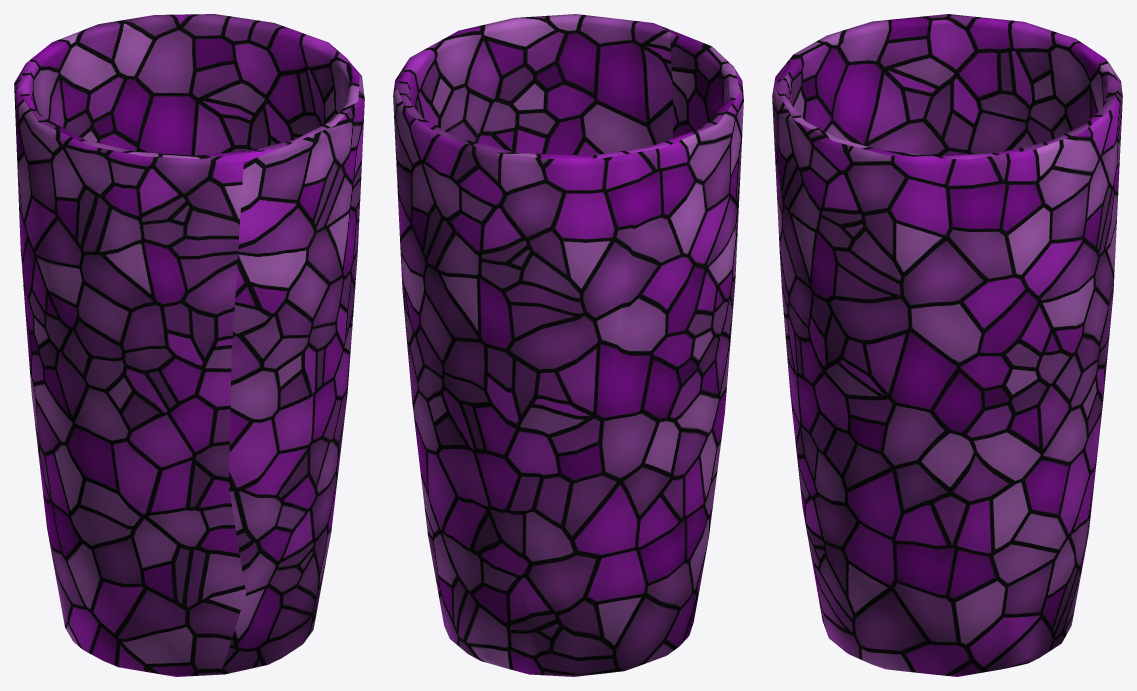
The model's file is pahar.obj.
3 views of the same model, side by side, from view 1: azimuth 30°, elevation 25°; view 2: azimuth 150°, elevation 25°; view 3: azimuth 270°, elevation 25° (orthographic).
Visible parts, largest first — view 1: glass_cup; view 2: glass_cup; view 3: glass_cup.
Part boxes in pixels (left/top/right/bottom): glass_cup: left=14, top=14, right=364, bottom=676; glass_cup: left=393, top=14, right=743, bottom=676; glass_cup: left=772, top=14, right=1122, bottom=676.
Size of the model in its own units: 0.015 by 0.0255 by 0.015.
Materials: 1 (1 with a texture image).
